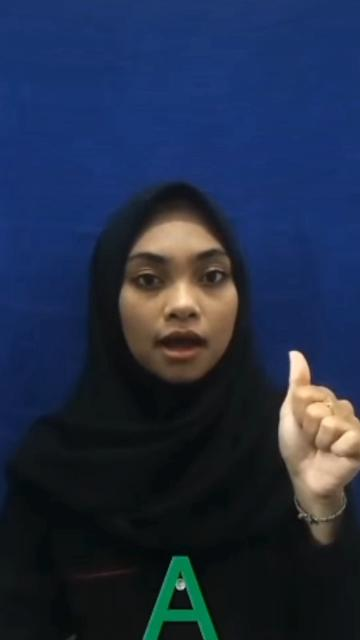A: (270, 339, 360, 535)
